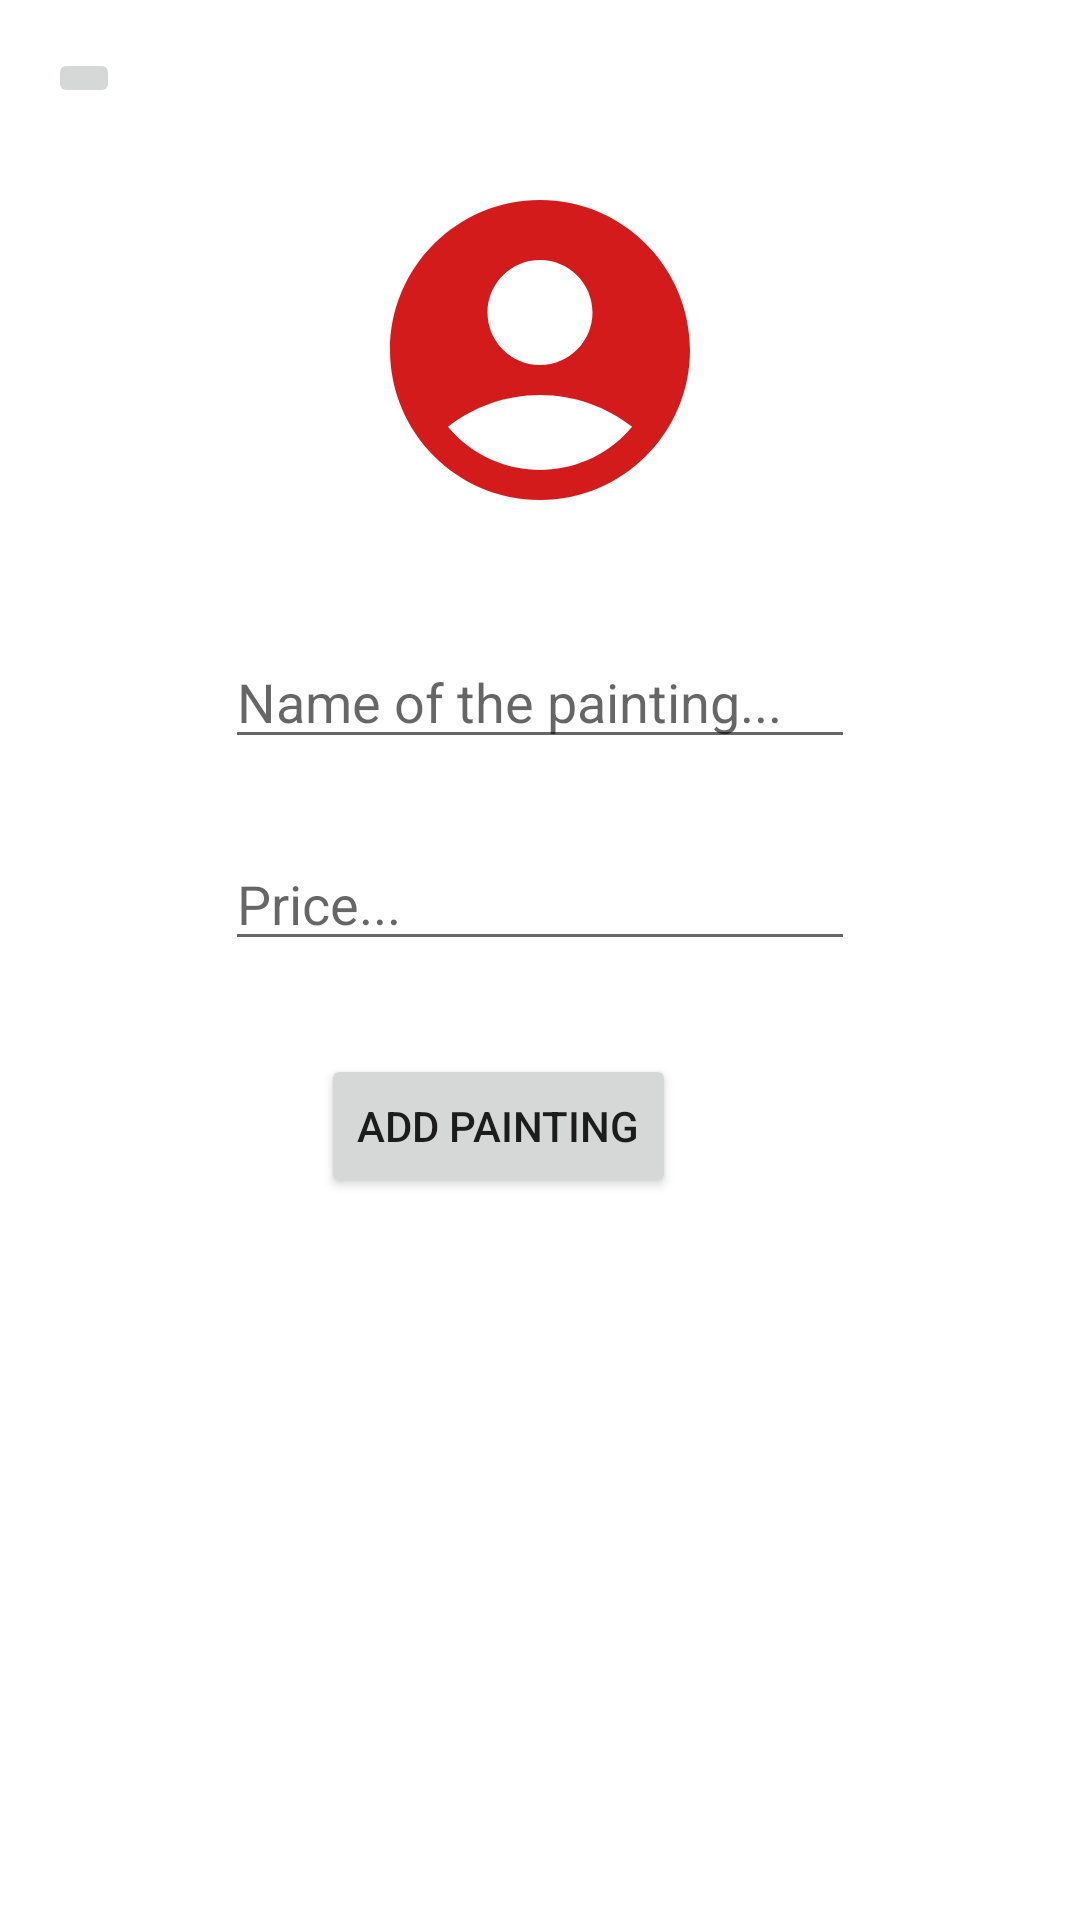

Where to tap for icons on this 1080x1920 app screen, as (x=x, y=y):
account circle: (x=540, y=350)
